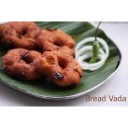vada: (43, 50, 81, 83), (2, 48, 43, 75), (39, 27, 77, 56), (1, 23, 38, 47)
